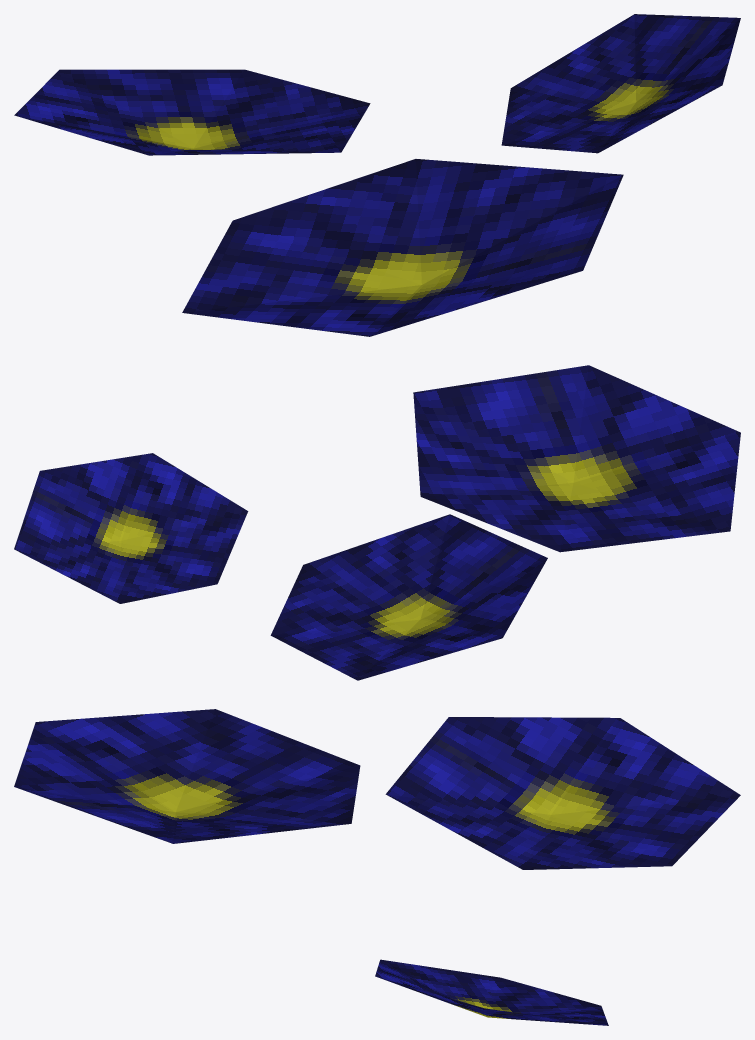
The model's file is flowers1.obj.
3 views of the same model, one above another, from view 1: azimuth 30°, elevation 25°; view 2: azimuth 150°, elevation 25°; view 3: azimuth 270°, elevation 25° (orthographic). The views are drawn at different scales.
Visible parts, largest first — view 1: flowers1; view 2: flowers1; view 3: flowers1.
Boxes of the visible parts, x1,y1,x2,y2 form: flowers1: (14,14,740,336); flowers1: (14,365,740,680); flowers1: (14,709,740,1025).
Bounding box in the file's own units: 0.0579 × 0.00937 × 0.0574.
Materials: 1 (1 with a texture image).
